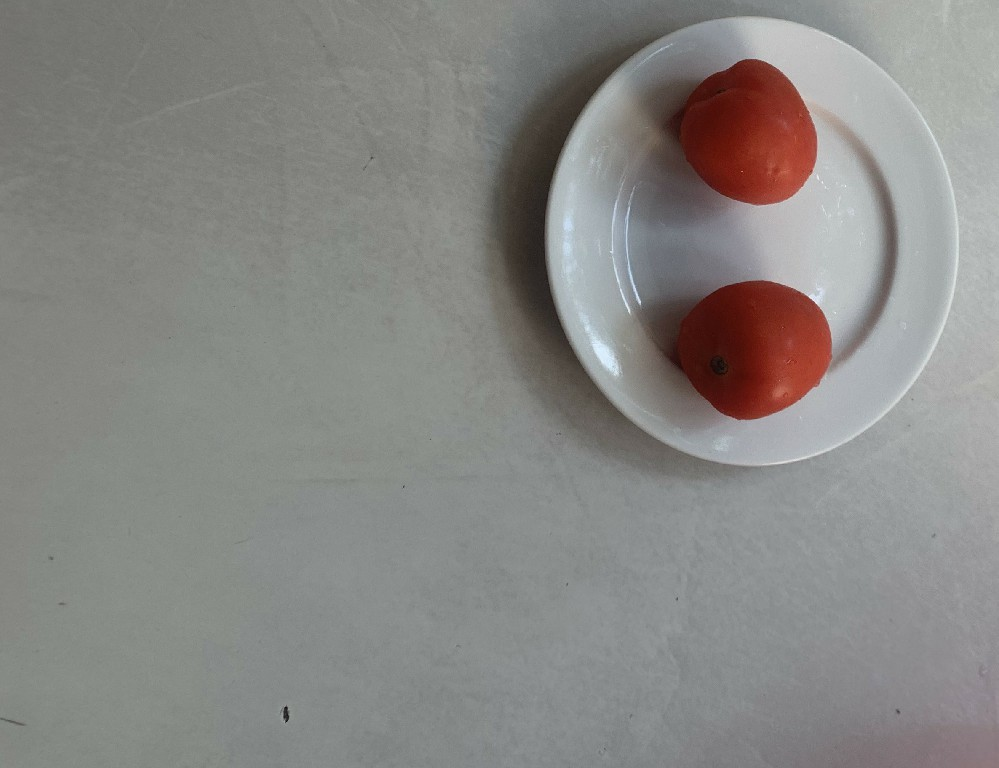OK: (668, 274, 842, 422), (668, 55, 819, 213)
